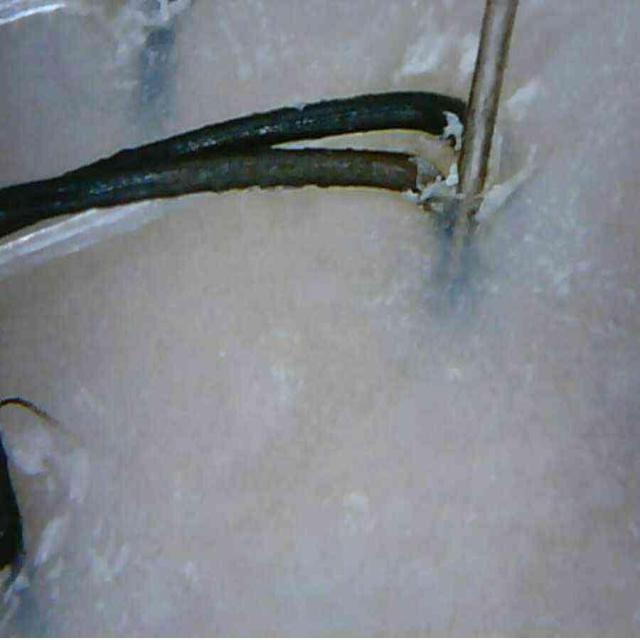d: (475, 144, 538, 223), (440, 111, 464, 150), (445, 163, 459, 187)
